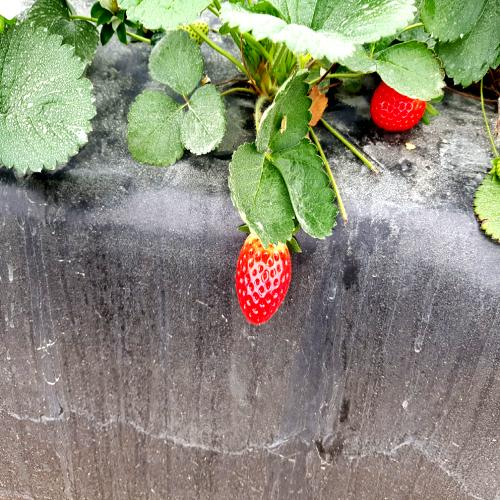ripe: (234, 214, 294, 332), (364, 70, 431, 142)
